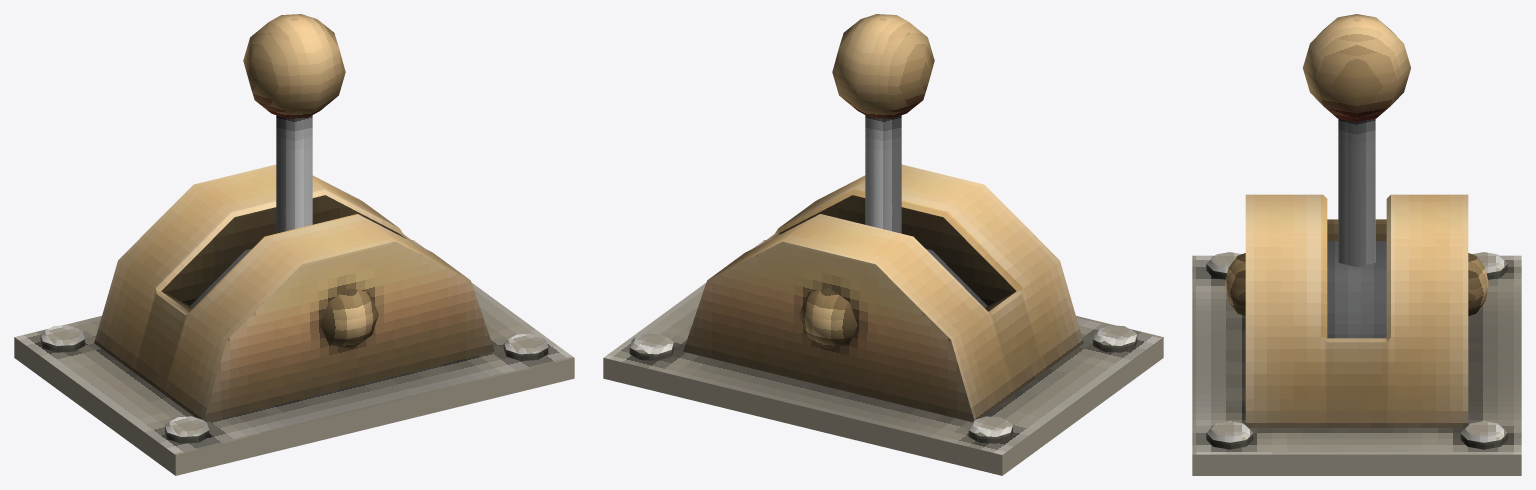
Rendered from Lever Switch Yellow.fbx.
3 views of the same model, side by side, from view 1: azimuth 30°, elevation 25°; view 2: azimuth 150°, elevation 25°; view 3: azimuth 270°, elevation 25° (orthographic). The views are drawn at different scales.
Visible parts, largest first — view 1: Switch, Lever; view 2: Switch, Lever; view 3: Switch, Lever.
Part boxes in pixels (box(x1,y1,x2,y2)): Switch: box(14, 164, 574, 475); Lever: box(243, 14, 345, 233); Switch: box(603, 164, 1163, 475); Lever: box(832, 14, 934, 233); Switch: box(1192, 194, 1521, 475); Lever: box(1303, 14, 1410, 267).
Size of the model in its own units: 1 by 0.8383 by 0.7.
